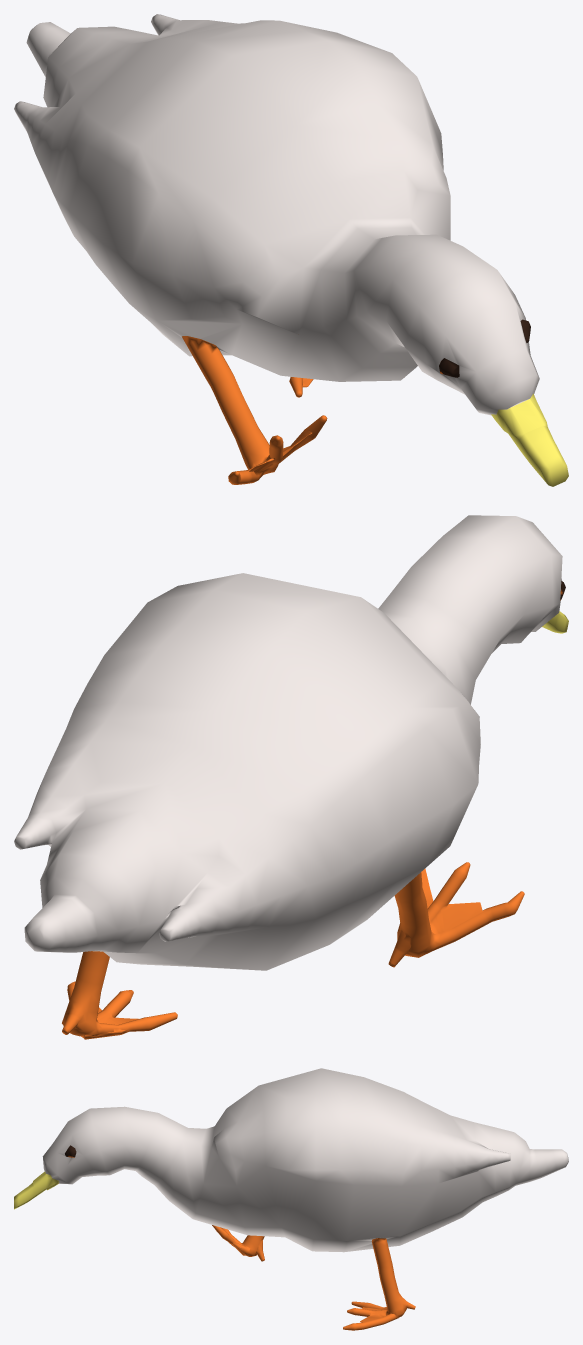
File: duck.glb
The picture shows the model from 3 angles, top to bottom: view 1: azimuth 30°, elevation 25°; view 2: azimuth 150°, elevation 25°; view 3: azimuth 270°, elevation 25°; orthographic projection. The views are drawn at different scales.
Bounding box in the file's own units: 0.8639 × 0.9758 × 2.3.
1 material, 1 textured.
